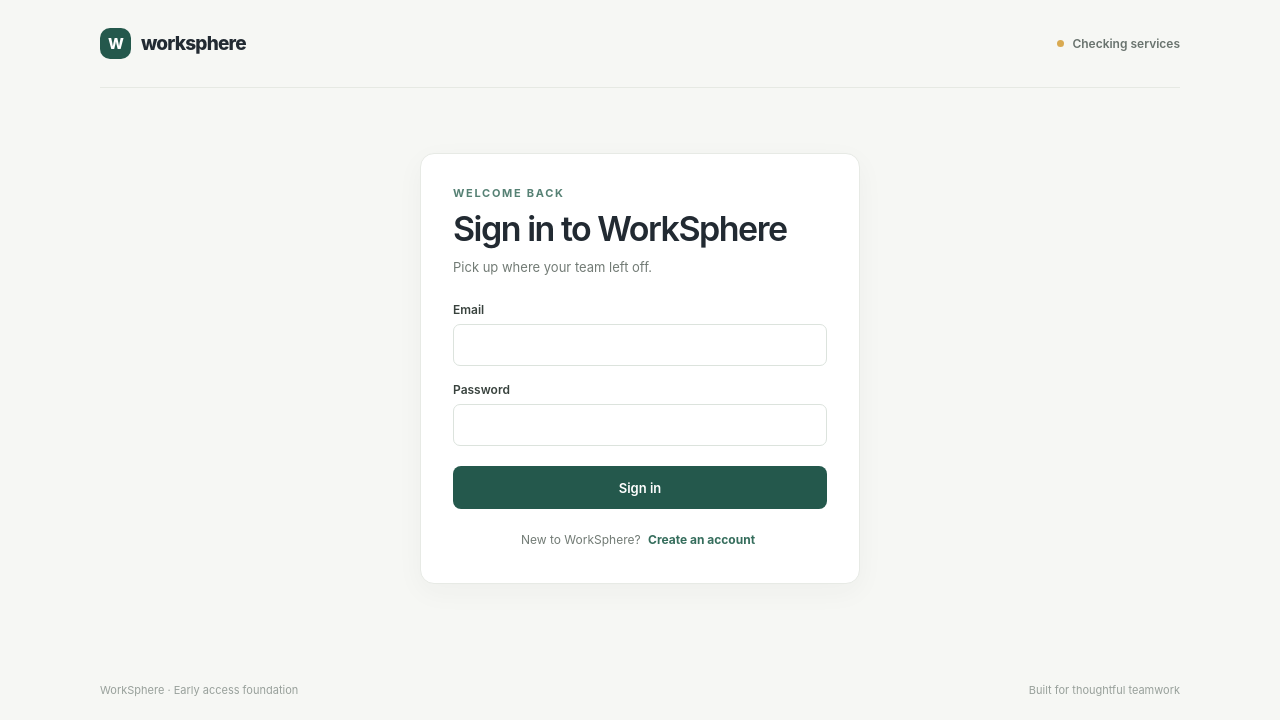
it: WorkSphere authentication flow › shows field errors returned for an unsuccessful sign-in
Type "person@example.com" into the field labelled "Email" at (640, 345), box [453,324,827,366]
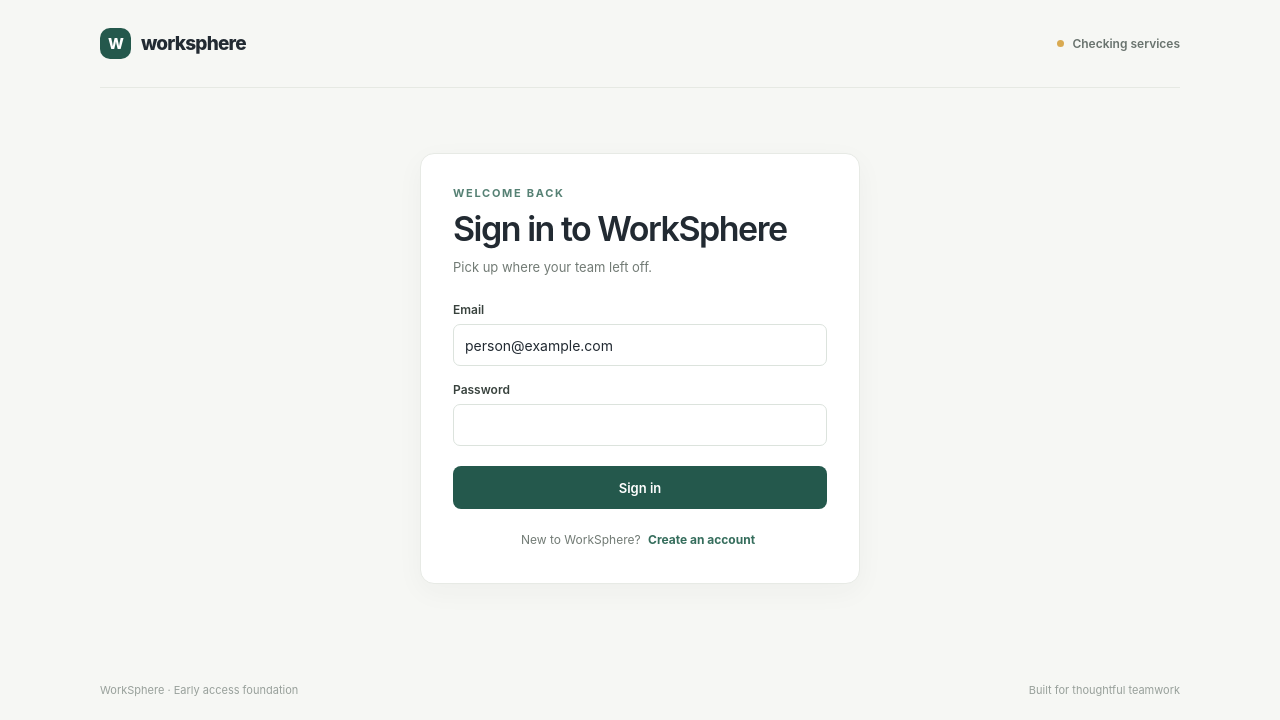
Type "not-the-password" into the password field labelled "Password" at (640, 425), box [453,404,827,446]
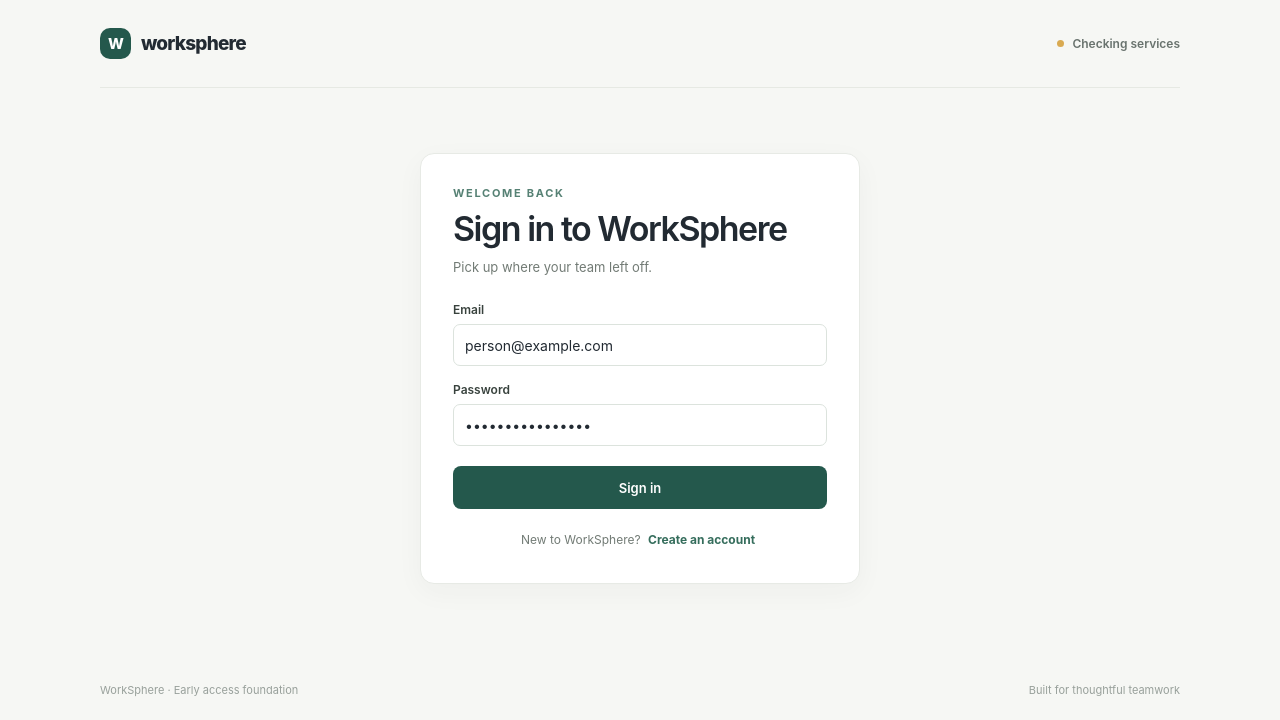
Click the button "Sign in" at (640, 488), box [453,466,827,509]
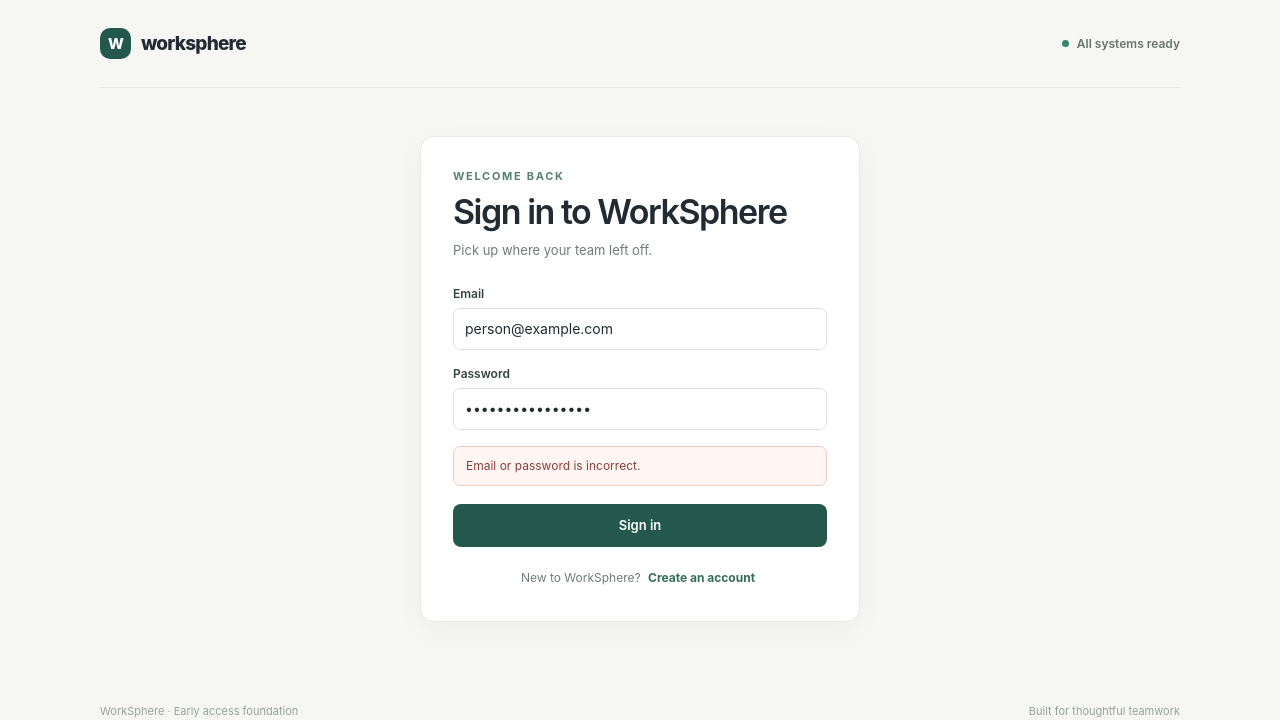
Expected: the message reads "Email or password is incorrect.", [466,458,640,473]
